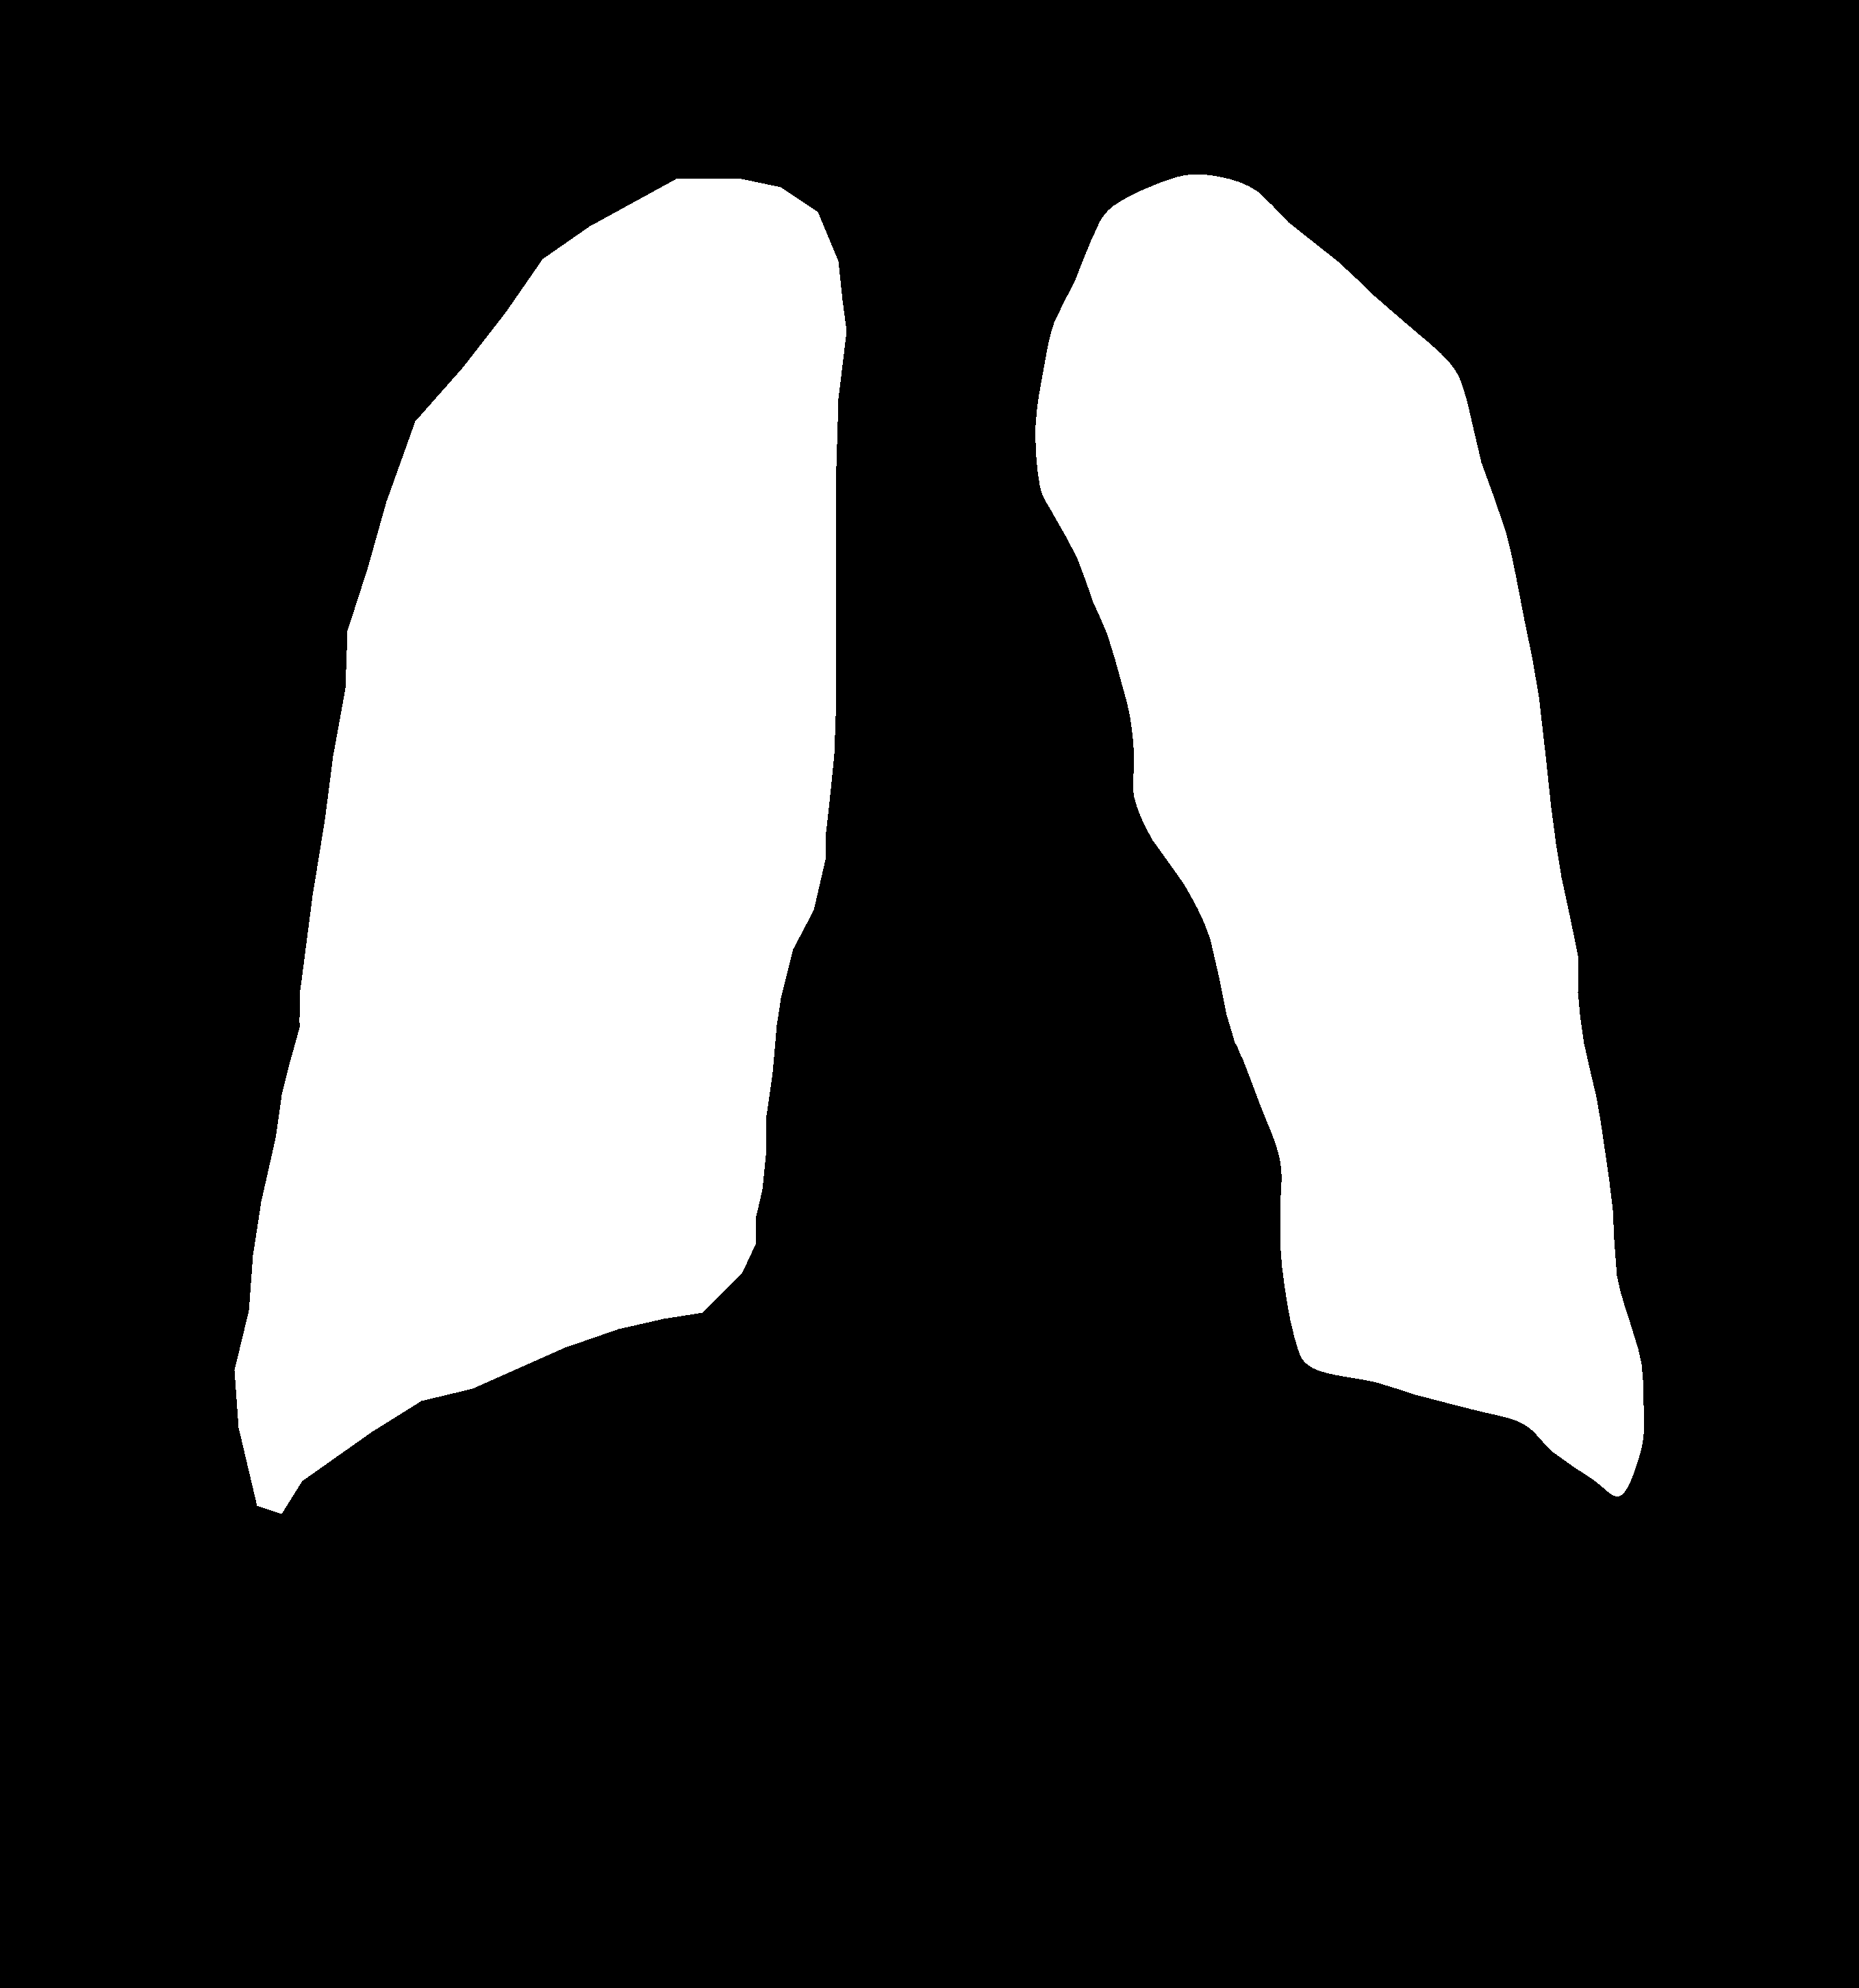heart: (760, 901, 1302, 1364)
left_lung: (234, 178, 846, 1513)
right_lung: (1036, 175, 1644, 1497)
